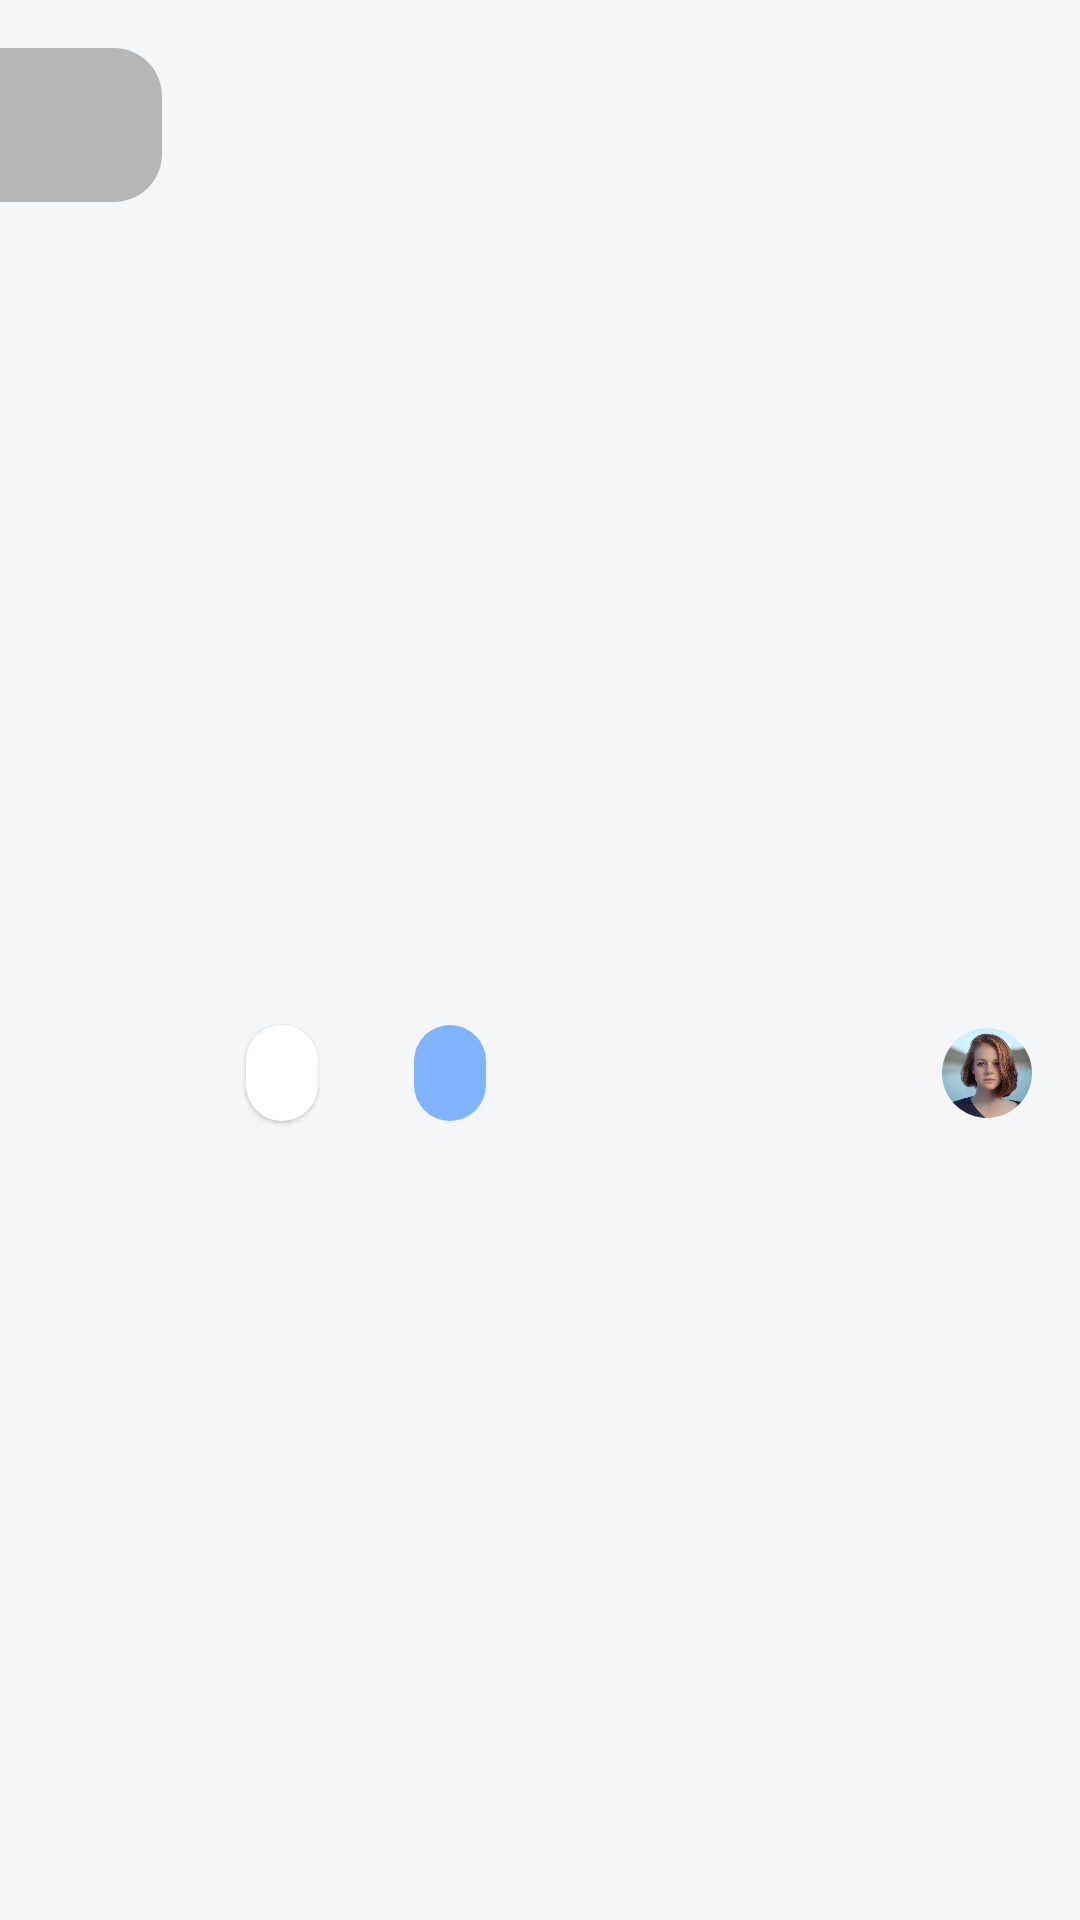

Locate icon controls on the screen. Image size 1080x1920, boxes as (x1, y1, x2, y2).
user: (942, 1028, 1032, 1118)
